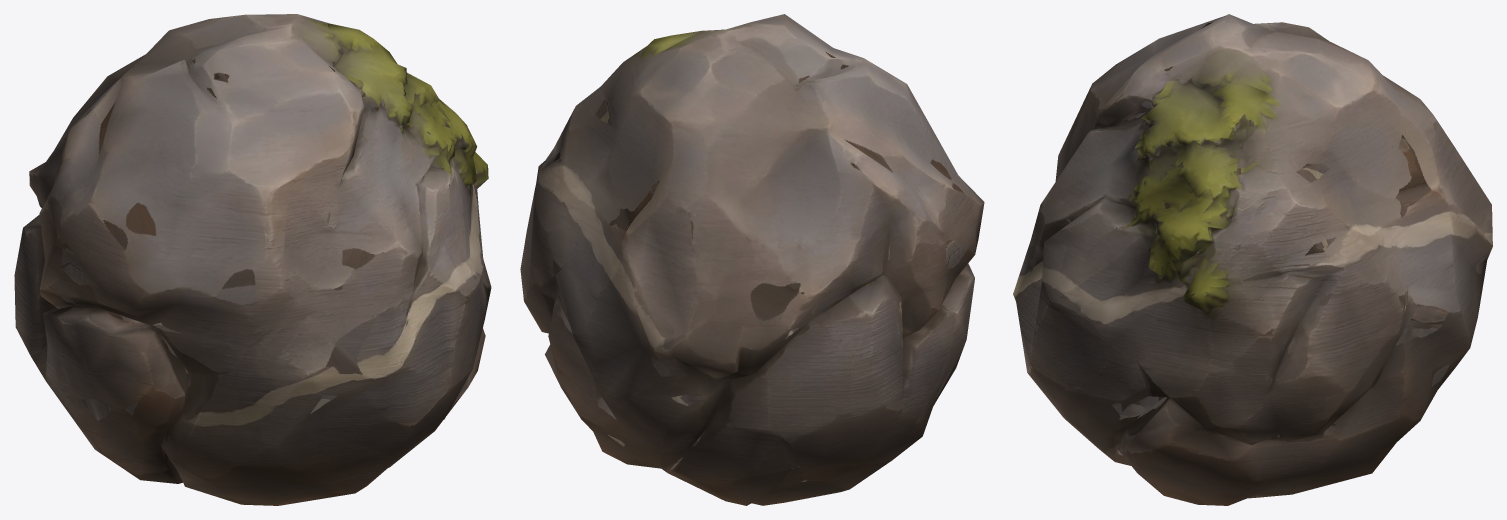
The model's file is LL_FallingBoulder.fbx.
3 views of the same model, side by side, from view 1: azimuth 30°, elevation 25°; view 2: azimuth 150°, elevation 25°; view 3: azimuth 270°, elevation 25° (orthographic). The views are drawn at different scales.
Visible parts, largest first — view 1: tripo_node_637ac7eb; view 2: tripo_node_637ac7eb; view 3: tripo_node_637ac7eb.
Boxes of the visible parts, <box> form: tripo_node_637ac7eb: <box>14,14,491,505</box>; tripo_node_637ac7eb: <box>520,14,984,505</box>; tripo_node_637ac7eb: <box>1013,14,1492,505</box>.
Size of the model in its own units: 95.84 by 97.37 by 97.76.
1 material, 1 textured.
